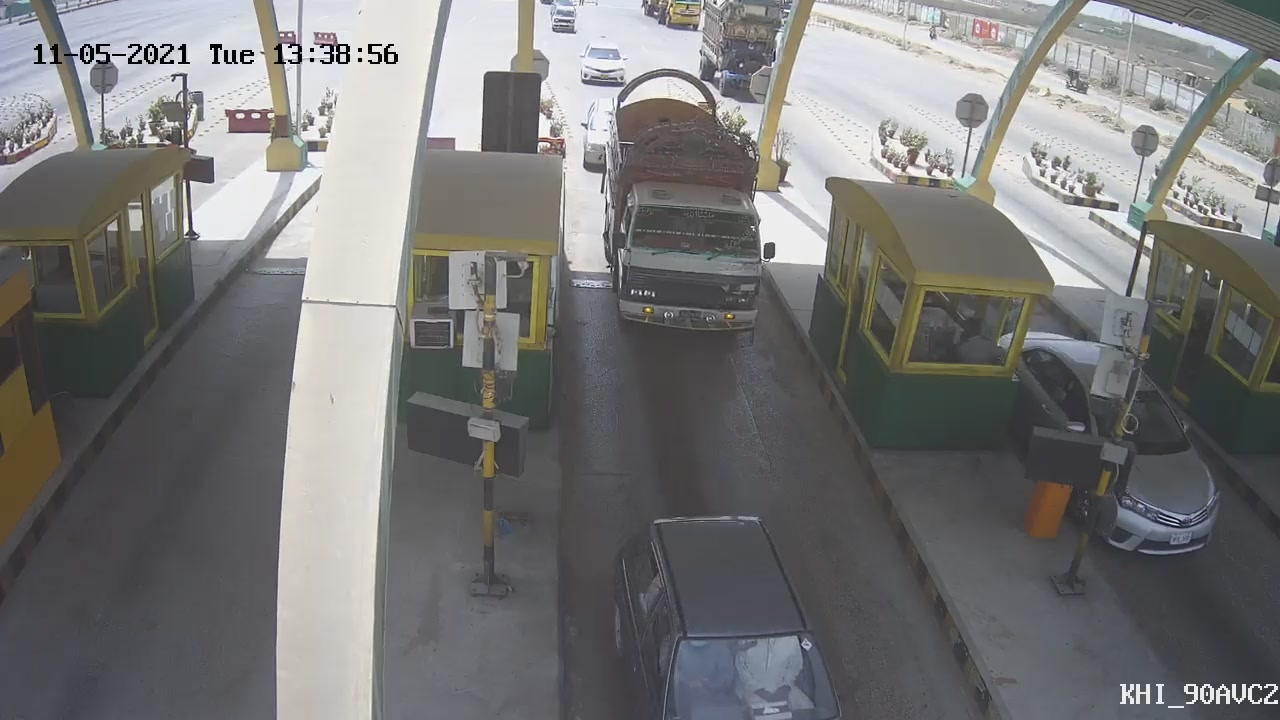F5: (594, 65, 773, 347)
